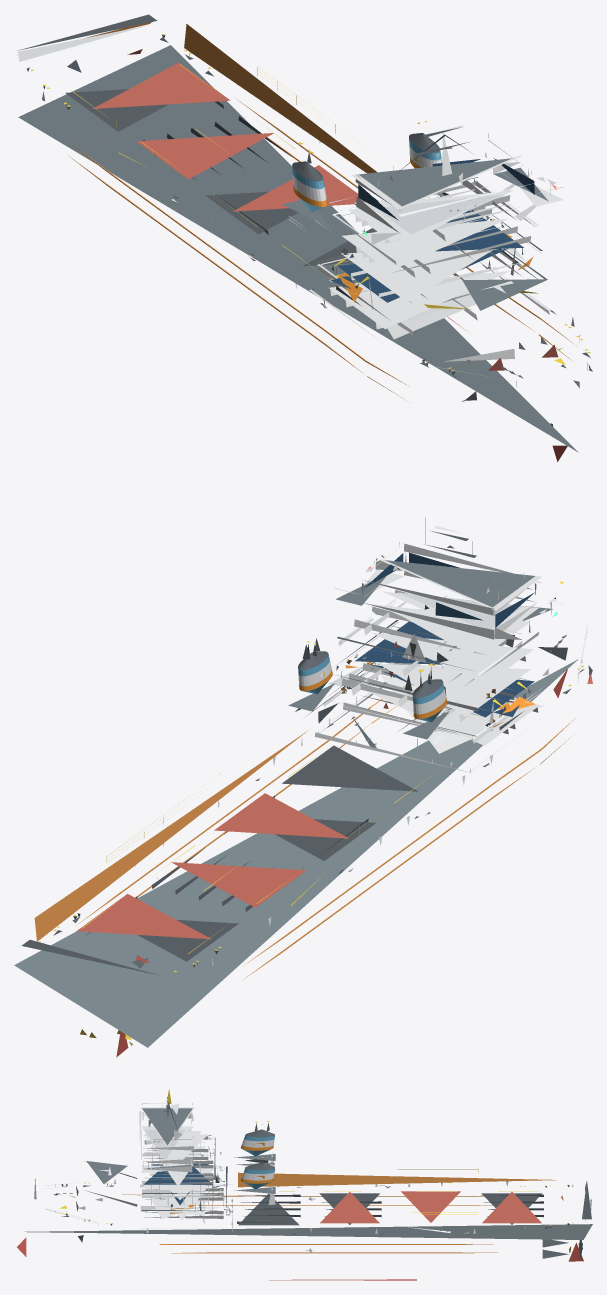
File: ship_12.glb
3 views of the same model, one above another, from view 1: azimuth 30°, elevation 25°; view 2: azimuth 150°, elevation 25°; view 3: azimuth 270°, elevation 25° (orthographic). The views are drawn at different scales.
Parts seen in each view (by area): view 1: TrueHelm_Ship_12; view 2: TrueHelm_Ship_12; view 3: TrueHelm_Ship_12.
Part boxes in pixels (left/top/right/bottom): TrueHelm_Ship_12: left=17, top=14, right=592, bottom=461; TrueHelm_Ship_12: left=14, top=517, right=592, bottom=1057; TrueHelm_Ship_12: left=17, top=1089, right=592, bottom=1280.
Size of the model in its own units: 0.145 by 0.2088 by 0.651.
